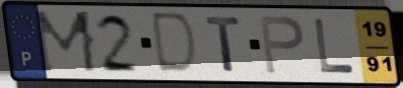2: (93, 12, 140, 74)
D: (151, 10, 201, 77)
L: (312, 16, 357, 76)
M: (32, 9, 101, 76)
P: (257, 14, 307, 76)
T: (203, 15, 244, 74)
